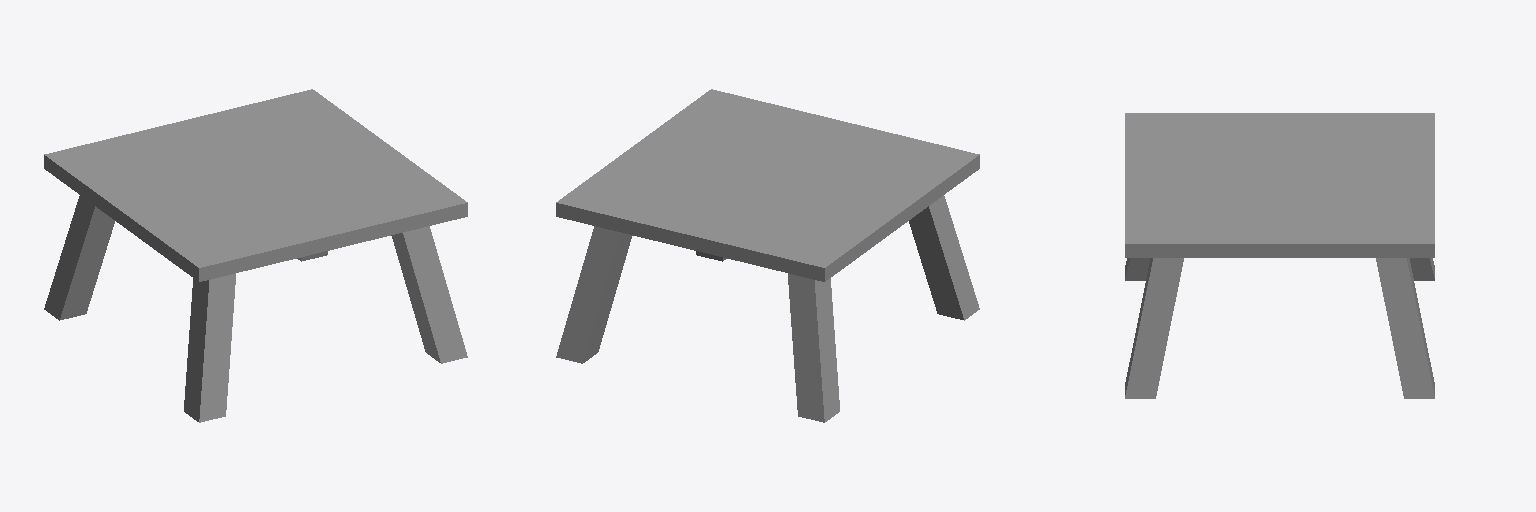
Rendered from Table1.obj.
The picture shows the model from 3 angles: view 1: azimuth 30°, elevation 25°; view 2: azimuth 150°, elevation 25°; view 3: azimuth 270°, elevation 25°; orthographic projection.
Visible parts, largest first — view 1: Cube; view 2: Cube; view 3: Cube.
Boxes of the visible parts, x1,y1,x2,y2 form: Cube: [44, 89, 467, 422]; Cube: [556, 89, 979, 422]; Cube: [1125, 113, 1434, 398].
Size of the model in its own units: 2 by 1.1 by 2.